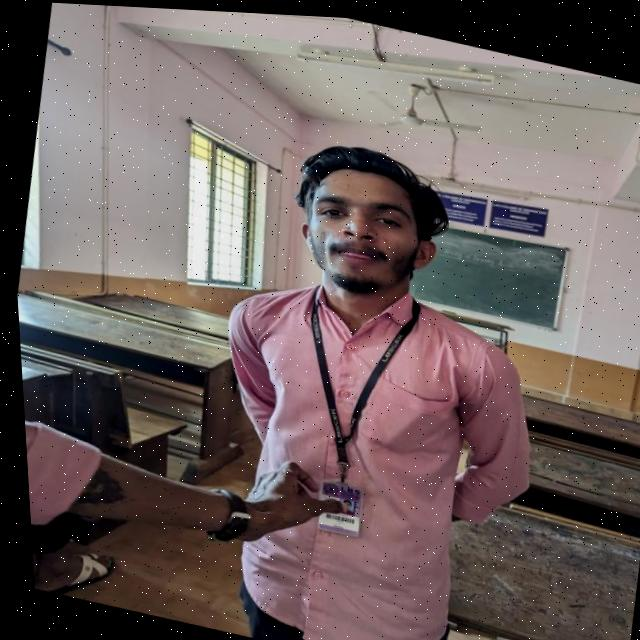id_card: (254, 269, 438, 553)
